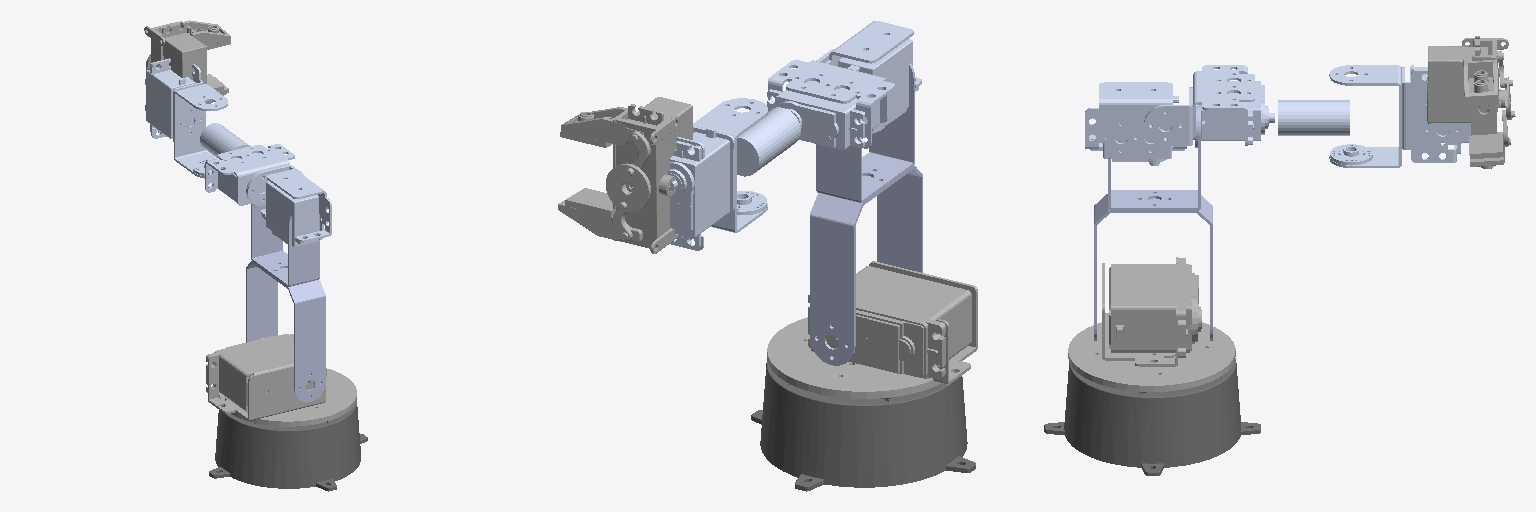
The robot description file, URDF, robot "alb5":
<robot
 name="alb5">


<!-- Links -->

  <link
    name="universal_link"/>

  <link
    name="universal_base">
    <inertial>
      <origin
        xyz="-0.053039 -0.00017356 0.025812"
        rpy="0 0 0" />
      <mass
        value="0.047047" />
      <inertia
        ixx="5.2284E-05"
        ixy="-3.601E-07"
        ixz="6.855E-08"
        iyy="5.2284E-05"
        iyz="-6.855E-08"
        izz="8.6172E-05" />
    </inertial>
    <visual>
      <origin
        xyz="0 0 0"
        rpy="0 0 0" />
      <geometry>
        <mesh
          filename="package://alb5_description/meshes/universal_base.STL" />
      </geometry>
      <material
        name="">
        <color
          rgba="0.50196 0.50196 0.50196 1" />
      </material>
    </visual>
    <collision>
      <origin
        xyz="0 0 0"
        rpy="0 0 0" />
      <geometry>
        <mesh
          filename="package://alb5_description/meshes/universal_base.STL" />
      </geometry>
    </collision>
  </link>

  <link
    name="base_link">
    <inertial>
      <origin
        xyz="-0.012308 -0.0014042 0.014799"
        rpy="0 0 0" />
      <mass
        value="0.12174" />
      <inertia
        ixx="5.1598E-05"
        ixy="3.9703E-07"
        ixz="-7.2302E-06"
        iyy="6.5945E-05"
        iyz="4.1623E-07"
        izz="8.4968E-05" />
    </inertial>
    <visual>
      <origin
        xyz="0 0 0"
        rpy="0 0 0" />
      <geometry>
        <mesh
          filename="package://alb5_description/meshes/base_link.STL" />
      </geometry>
      <material
        name="">
        <color
          rgba="0.75294 0.75294 0.75294 1" />
      </material>
    </visual>
    <collision>
      <origin
        xyz="0 0 0"
        rpy="0 0 0" />
      <geometry>
        <mesh
          filename="package://alb5_description/meshes/base_link.STL" />
      </geometry>
    </collision>
  </link>

  <link
    name="shoulder_link">
    <inertial>
      <origin
        xyz="0.066744 -4.1633E-17 -0.0019391"
        rpy="0 0 0" />
      <mass
        value="0.015039" />
      <inertia
        ixx="1.1153E-05"
        ixy="-9.0248E-11"
        ixz="-1.4331E-06"
        iyy="2.9548E-05"
        iyz="-3.2558E-21"
        izz="1.9883E-05" />
    </inertial>
    <visual>
      <origin
        xyz="0 0 0"
        rpy="0 0 0" />
      <geometry>
        <mesh
          filename="package://alb5_description/meshes/shoulder_link.STL" />
      </geometry>
      <material
        name="">
        <color
          rgba="0.79608 0.82353 0.93725 1" />
      </material>
    </visual>
    <collision>
      <origin
        xyz="0 0 0"
        rpy="0 0 0" />
      <geometry>
        <mesh
          filename="package://alb5_description/meshes/shoulder_link.STL" />
      </geometry>
    </collision>
  </link>

  <link
    name="elbow_link">
    <inertial>
      <origin
        xyz="0.015845 0.0003785 0.0069996"
        rpy="0 0 0" />
      <mass
        value="0.08291" />
      <inertia
        ixx="1.8696E-05"
        ixy="6.1592E-06"
        ixz="7.2825E-06"
        iyy="7.2928E-05"
        iyz="6.2765E-07"
        izz="7.3916E-05" />
    </inertial>
    <visual>
      <origin
        xyz="0 0 0"
        rpy="0 0 0" />
      <geometry>
        <mesh
          filename="package://alb5_description/meshes/elbow_link.STL" />
      </geometry>
      <material
        name="">
        <color
          rgba="0.86667 0.9098 1 1" />
      </material>
    </visual>
    <collision>
      <origin
        xyz="0 0 0"
        rpy="0 0 0" />
      <geometry>
        <mesh
          filename="package://alb5_description/meshes/elbow_link.STL" />
      </geometry>
    </collision>
  </link>

  <link
    name="elbow_twist_link">
    <inertial>
      <origin
        xyz="-0.0029382 -0.0015075 0.029386"
        rpy="0 0 0" />
      <mass
        value="0.043897" />
      <inertia
        ixx="1.1596E-05"
        ixy="2.7195E-07"
        ixz="-1.1712E-07"
        iyy="1.4764E-05"
        iyz="3.4709E-07"
        izz="8.1213E-06" />
    </inertial>
    <visual>
      <origin
        xyz="0 0 .02"
        rpy="0 0 0" />
      <geometry>
        <cylinder
          radius=".01"
          length="0.040119" />
      </geometry>
      <material
        name="">
        <color
          rgba="0.86667 0.9098 1 1" />
      </material>
    </visual>
    <collision>
      <origin
        xyz="0 0 .02"
        rpy="0 0 0" />
      <geometry>
        <cylinder
          radius=".01"
          length="0.040119" />
      </geometry>
    </collision>
  </link>

  <link
    name="wrist_link">
    <inertial>
      <origin
        xyz="0.040119 -0.00065426 0.0042288"
        rpy="-0.1 0 0" />
      <mass
        value="0.052802" />
      <inertia
        ixx="1.6001E-05"
        ixy="-7.1131E-08"
        ixz="3.1427E-06"
        iyy="3.0906E-05"
        iyz="-9.7169E-07"
        izz="2.0576E-05" />
    </inertial>
    <visual>
      <origin
        xyz="0 0 0"
        rpy="-0.1 0 0" />
      <geometry>
        <mesh
          filename="package://alb5_description/meshes/wrist_link.STL" />
      </geometry>
      <material
        name="">
        <color
          rgba="0.86667 0.9098 1 1" />
      </material>
    </visual>
    <collision>
      <origin
        xyz="0 0 0"
        rpy="0 0 0" />
      <geometry>
        <mesh
          filename="package://alb5_description/meshes/wrist_link.STL" />
      </geometry>
    </collision>
  </link>

  <link
    name="wrist_twist_link">
    <inertial>
      <origin
        xyz="0.0065571 0.01077 0.012875"
        rpy="0 0 0" />
      <mass
        value="0.03642" />
      <inertia
        ixx="6.6241E-06"
        ixy="1.1686E-06"
        ixz="6.0837E-08"
        iyy="8.5646E-06"
        iyz="1.085E-07"
        izz="1.204E-05" />
    </inertial>
    <visual>
      <origin
        xyz="0 0 0"
        rpy="0 0 -0.08" />
      <geometry>
        <mesh
          filename="package://alb5_description/meshes/wrist_twist_link.STL" />
      </geometry>
      <material
        name="">
        <color
          rgba="0.75294 0.75294 0.75294 1" />
      </material>
    </visual>
    <collision>
      <origin
        xyz="0 0 0"
        rpy="0 0 0" />
      <geometry>
        <mesh
          filename="package://alb5_description/meshes/wrist_twist_link.STL" />
      </geometry>
    </collision>
  </link>

  <link
    name="gripper_link">
    <inertial>
      <origin
        xyz="0.00017582 -0.0025503 -0.02176"
        rpy="0 0 0" />
      <mass
        value="0.011113" />
      <inertia
        ixx="2.3432E-06"
        ixy="2.8331E-07"
        ixz="2.8618E-08"
        iyy="6.1948E-06"
        iyz="5.2081E-07"
        izz="5.0216E-06" />
    </inertial>
    <visual>
      <origin
        xyz="0 0 0"
        rpy="0 0 0" />
      <geometry>
        <mesh
          filename="package://alb5_description/meshes/gripper_link.STL" />
      </geometry>
      <material
        name="">
        <color
          rgba="0.75294 0.75294 0.75294 1" />
      </material>
    </visual>
    <collision>
      <origin
        xyz="0 0 0"
        rpy="0 0 -0.08" />
      <geometry>
        <mesh
          filename="package://alb5_description/meshes/gripper_link.STL" />
      </geometry>
    </collision>
  </link>


<!-- Joints -->  

  <joint
    name="universal_joint"
    type="fixed">
    <origin
      xyz="0 0 0"
      rpy="0 0 0" />
    <parent
      link="universal_link" />
    <child
      link="universal_base" />
    <axis
      xyz="0 0 0" />
  </joint>

  <joint
    name="base"
    type="revolute">
    <origin
      xyz="-0.053523 0.00068628 0.046204"
      rpy="0 0 0" />
    <parent
      link="universal_base" />
    <child
      link="base_link" />
    <axis
      xyz="0 0 1" />
    <limit
      lower="-1.57"
      upper="1.57"
      effort="1"
      velocity="1.5" />
    <dynamics
      damping="0.7"
      friction="0" />
  </joint>

  <joint
    name="shoulder"
    type="revolute">
    <origin
      xyz="-0.0013006 -0.0003321 0.02048"
      rpy="-1.5708 -1.5708 -3.1416" />
    <parent
      link="base_link" />
    <child
      link="shoulder_link" />
    <axis
      xyz="0 0 1" />
    <limit
      lower="-1.57"
      upper="1.57"
      effort="1"
      velocity="1.5" />
    <dynamics
      damping="0.7"
      friction="0" />
  </joint>

  <joint
    name="elbow"
    type="revolute">
    <origin
      xyz="0.11909 0 -0.0006096"
      rpy="1.5708 1.5708 1.5708" />
    <parent
      link="shoulder_link" />
    <child
      link="elbow_link" />
    <axis
      xyz="0 0 1" />
    <limit
      lower="-1.57"
      upper="1.57"
      effort="1"
      velocity="1.5" />
    <dynamics
      damping="0.7"
      friction="0" />
  </joint>

  <joint
    name="elbow_twist"
    type="fixed">
    <origin
      xyz="0.069191 -0.0059635 0.008392"
      rpy="1.5708 1.5708 1.5708" />
    <parent
      link="elbow_link" />
    <child
      link="elbow_twist_link" />
    <axis
      xyz="0 0 1" />
    <limit
      lower="-1.57"
      upper="1.57"
      effort="1"
      velocity="1.5" />
    <dynamics
      damping="0.7"
      friction="0" />
  </joint>

  <joint
    name="wrist"
    type="revolute">
    <origin
      xyz="-0.0001132 0.00135 0.041135"
      rpy="0 -1.5708 0" />
    <parent
      link="elbow_twist_link" />
    <child
      link="wrist_link" />
    <axis
      xyz="0 0 1" />
    <limit
      lower="-1.57"
      upper="1.57"
      effort="1"
      velocity="1" />
    <dynamics
      damping="0.1"
      friction="0" />
  </joint>

  <joint
    name="wrist_twist"
    type="revolute">
    <origin
      xyz="0.074447 0.00051434 0.015966"
      rpy="0 -1.5708 1.5708" />
    <parent
      link="wrist_link" />
    <child
      link="wrist_twist_link" />
    <axis
      xyz="0 0 1" />
    <limit
      lower="-1.57"
      upper="1.57"
      effort="1"
      velocity="1.5" />
    <dynamics
      damping="0.7"
      friction="0" />
  </joint>

  <joint
    name="gripper"
    type="fixed">
    <origin
      xyz="0 0 0.053708"
      rpy="0 0 0" />
    <parent
      link="wrist_twist_link" />
    <child
      link="gripper_link" />
    <axis
      xyz="0 0 0" />
    <limit
      lower="-1.57"
      upper="1.57"
      effort="1"
      velocity="1.5" />
    <dynamics
      damping="0.7"
      friction="0" />
  </joint>

</robot>

--- What the picture shows (computed from the rendered views, not written in the file) ---
The picture shows the robot from 3 angles, left to right: view 1: azimuth 30°, elevation 25°; view 2: azimuth 150°, elevation 25°; view 3: azimuth 270°, elevation 25°; orthographic projection.
Model alb5 with 9 links and 8 joints (5 revolute, 3 fixed), rooted at universal_link, posed all joints at 0.
Links seen in each view (by area): view 1: universal_base, shoulder_link, base_link, elbow_link, wrist_link, wrist_twist_link, gripper_link, elbow_twist_link; view 2: universal_base, base_link, shoulder_link, elbow_link, wrist_link, gripper_link, wrist_twist_link, elbow_twist_link; view 3: base_link, universal_base, elbow_link, wrist_link, wrist_twist_link, shoulder_link, gripper_link, elbow_twist_link.
Boxes of the visible links, x1,y1,x2,y2 form: universal_base: (209, 402, 367, 491); shoulder_link: (246, 203, 325, 401); base_link: (206, 334, 356, 426); elbow_link: (205, 144, 331, 246); wrist_link: (145, 58, 227, 178); wrist_twist_link: (144, 21, 206, 110); gripper_link: (146, 20, 230, 103); elbow_twist_link: (200, 123, 249, 157); universal_base: (751, 359, 975, 491); base_link: (767, 261, 977, 398); shoulder_link: (810, 63, 922, 365); elbow_link: (767, 21, 921, 149); wrist_link: (668, 98, 767, 250); gripper_link: (558, 107, 650, 241); wrist_twist_link: (613, 97, 692, 253); elbow_twist_link: (737, 107, 800, 176); base_link: (1068, 257, 1235, 391); universal_base: (1044, 358, 1260, 475); elbow_link: (1085, 65, 1274, 165); wrist_link: (1329, 65, 1470, 167); wrist_twist_link: (1427, 36, 1508, 135); shoulder_link: (1094, 105, 1212, 340); gripper_link: (1463, 51, 1515, 168); elbow_twist_link: (1278, 100, 1349, 135).
Size in the robot's own frame: 0.1214 by 0.2639 by 0.2476 metres.
7 mesh visuals loaded from 7 distinct referenced files (7 binary STL).
